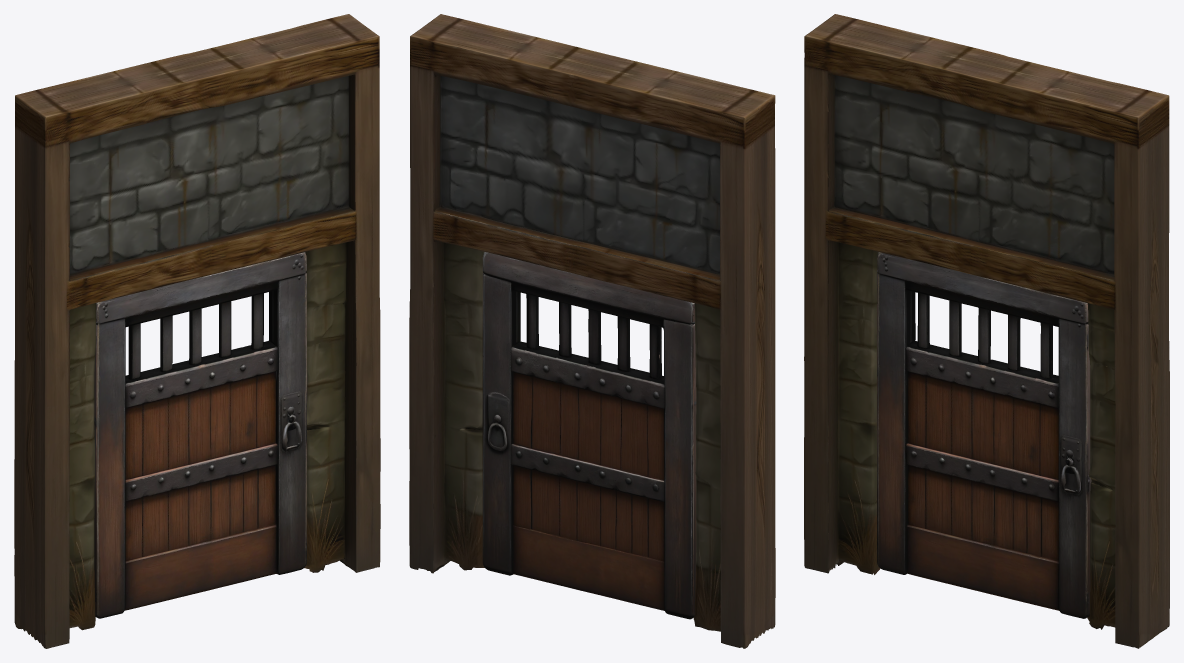
Rendered from blk_door_closed.glb.
3 views of the same model, side by side, from view 1: azimuth 30°, elevation 25°; view 2: azimuth 150°, elevation 25°; view 3: azimuth 330°, elevation 25° (orthographic).
Visible parts, largest first — view 1: Meshy_AI_Dungeon_Gate_1215093133_texture, model; view 2: Meshy_AI_Dungeon_Gate_1215093133_texture, model; view 3: Meshy_AI_Dungeon_Gate_1215093133_texture, model.
Part boxes in pixels (bbox=[...]): Meshy_AI_Dungeon_Gate_1215093133_texture: bbox=[14, 14, 380, 648]; model: bbox=[94, 252, 307, 618]; Meshy_AI_Dungeon_Gate_1215093133_texture: bbox=[409, 14, 775, 648]; model: bbox=[482, 252, 696, 619]; Meshy_AI_Dungeon_Gate_1215093133_texture: bbox=[804, 14, 1169, 648]; model: bbox=[877, 252, 1091, 618].
Bounding box in the file's own units: 2.01 × 3.05 × 0.3192.
2 materials, 2 textured.
